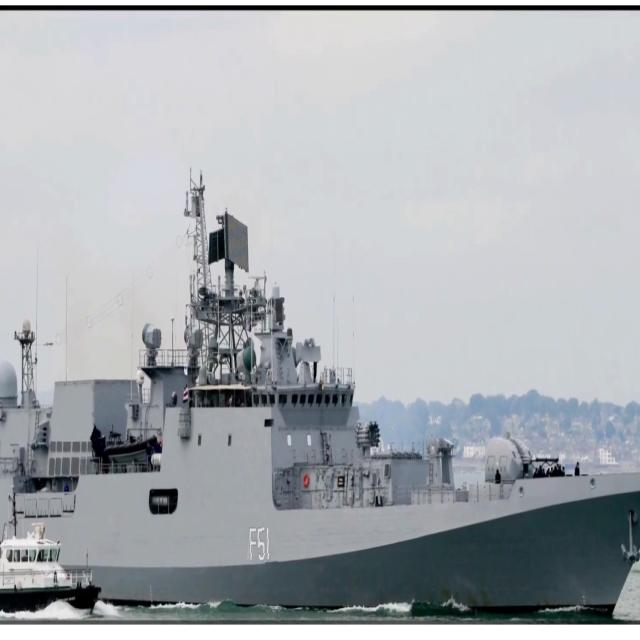OCR: (244, 519, 278, 572)
